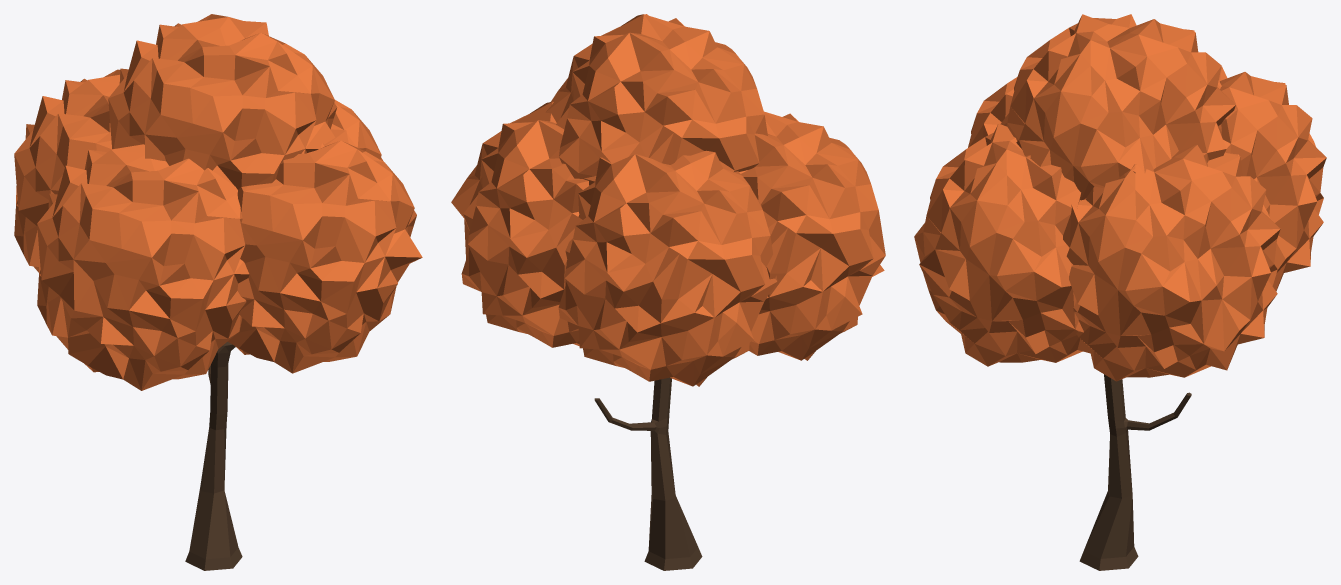
File: fall tree 4.fbx
The picture shows the model from 3 angles, left to right: view 1: azimuth 30°, elevation 25°; view 2: azimuth 150°, elevation 25°; view 3: azimuth 270°, elevation 25°; orthographic projection. The views are drawn at different scales.
Parts seen in each view (by area): view 1: LowPoly Tree .034; view 2: LowPoly Tree .034; view 3: LowPoly Tree .034.
Boxes of the visible parts, bbox=[...] form: LowPoly Tree .034: bbox=[14, 14, 422, 570]; LowPoly Tree .034: bbox=[451, 14, 885, 570]; LowPoly Tree .034: bbox=[914, 14, 1326, 570].
Size of the model in its own units: 114 by 156 by 108.
